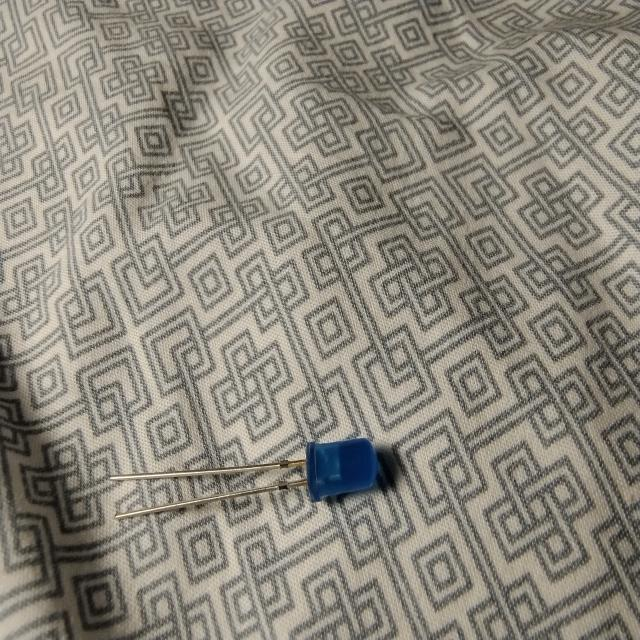blue_led: (304, 436, 380, 503)
